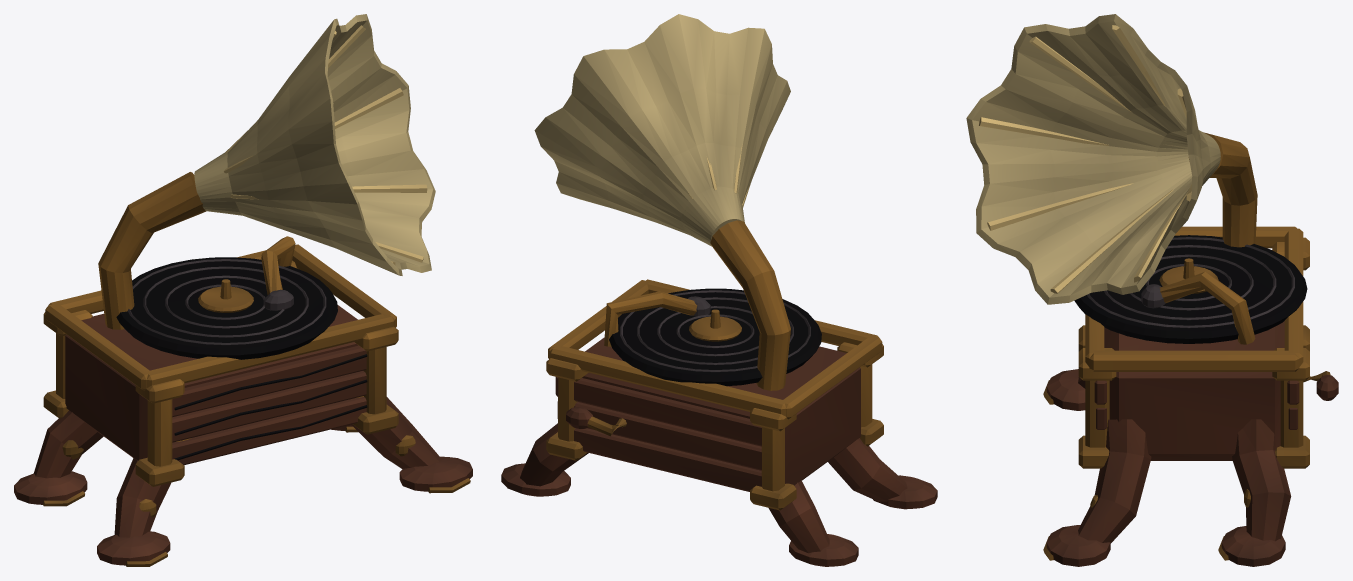
The model's file is pale_gramophone.fbx.
The picture shows the model from 3 angles, left to right: view 1: azimuth 30°, elevation 25°; view 2: azimuth 150°, elevation 25°; view 3: azimuth 270°, elevation 25°; orthographic projection. The views are drawn at different scales.
Parts seen in each view (by area): view 1: pale_gramophone; view 2: pale_gramophone; view 3: pale_gramophone.
Boxes of the visible parts, box(x1,y1,x2,y2) form: pale_gramophone: box(14, 14, 472, 566); pale_gramophone: box(501, 14, 937, 566); pale_gramophone: box(966, 14, 1338, 566).
Size of the model in its own units: 3.35 by 4.1 by 2.77.
